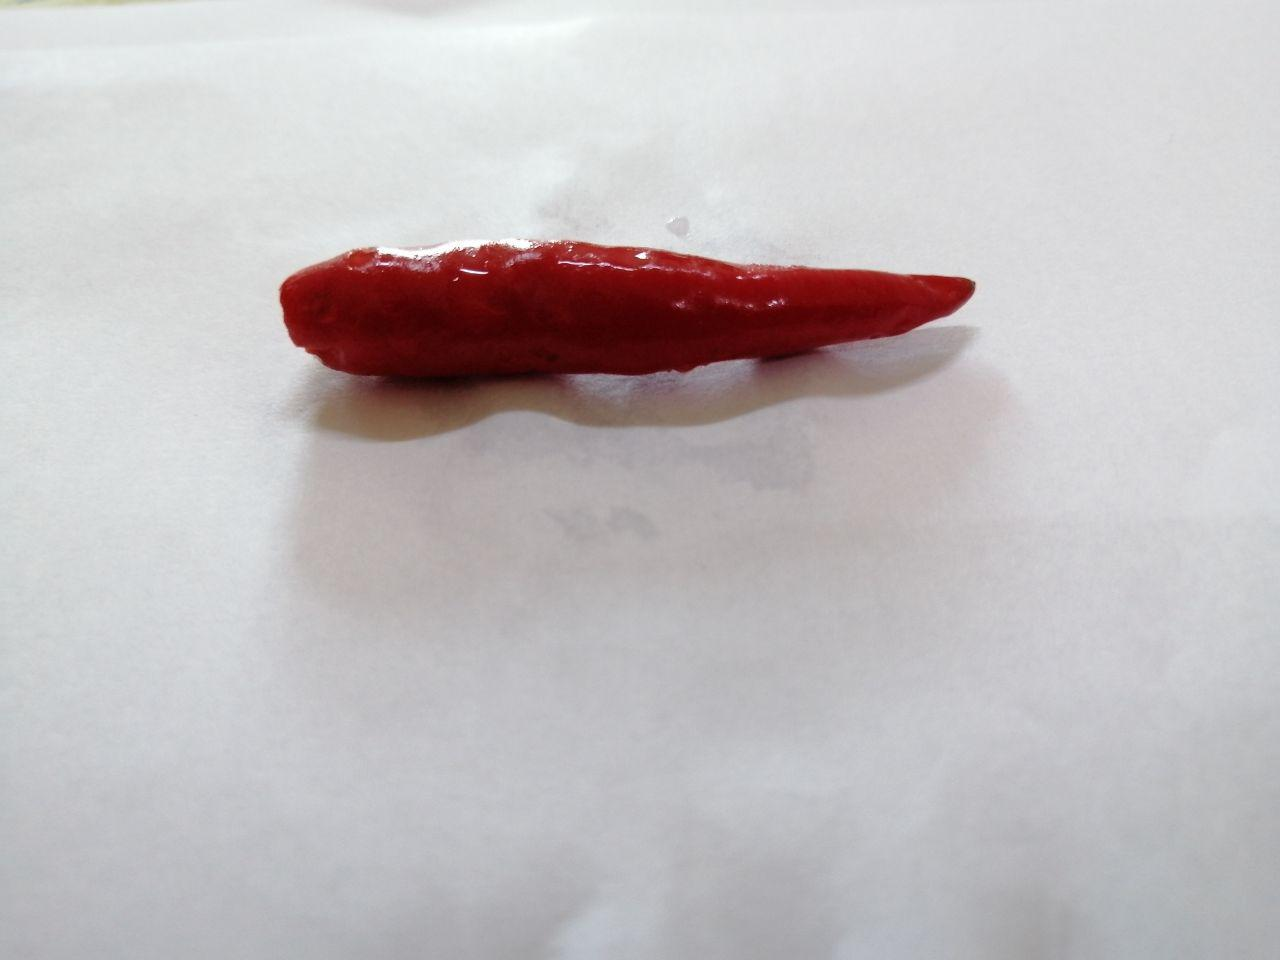lada merah: (271, 221, 990, 419)
